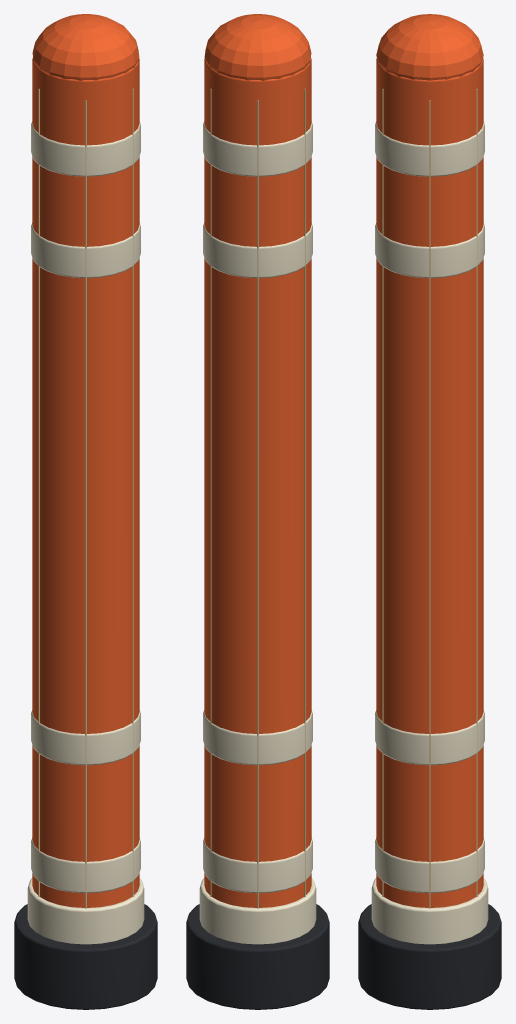
The model's file is checkpoint.glb.
3 renders of one model, left to right at view 1: azimuth 30°, elevation 25°; view 2: azimuth 150°, elevation 25°; view 3: azimuth 270°, elevation 25°, orthographic.
Visible parts, largest first — view 1: orange, white, dark, sand; view 2: orange, white, dark, sand; view 3: orange, white, dark, sand.
Part boxes in pixels (x1,y1,x2,y2): orange: (32,14,139,907); white: (27,121,144,944); dark: (14,904,157,1009); sand: (38,89,133,908); orange: (204,14,311,907); white: (199,121,316,944); dark: (186,904,329,1009); sand: (210,89,305,908); orange: (376,14,483,907); white: (371,121,488,944); dark: (358,904,501,1009); sand: (382,89,477,908).
Bounding box in the file's own units: 0.64 × 4.73 × 0.64.
